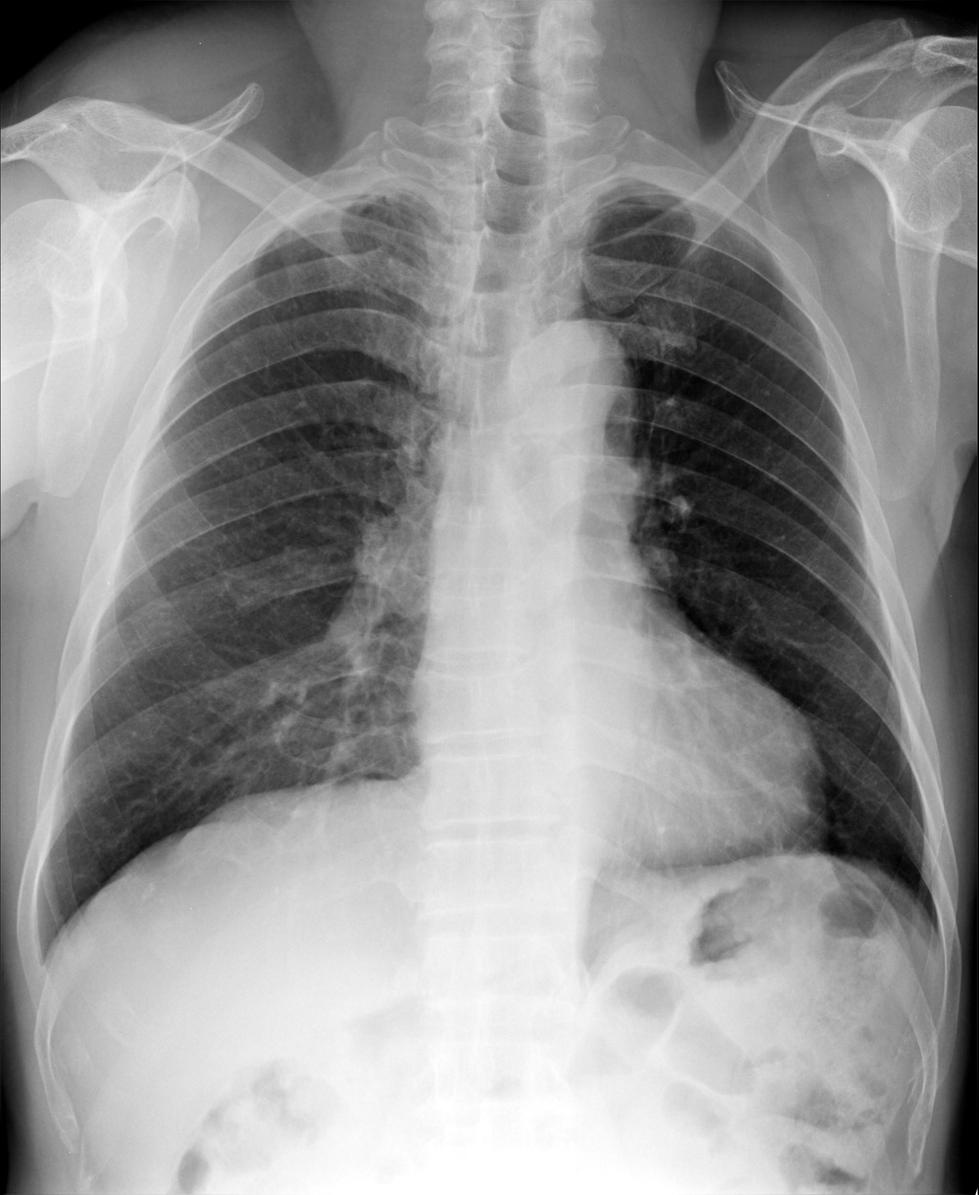Aortic enlargement: (508, 324, 639, 435)
Pleural thickening: (261, 178, 406, 222)
